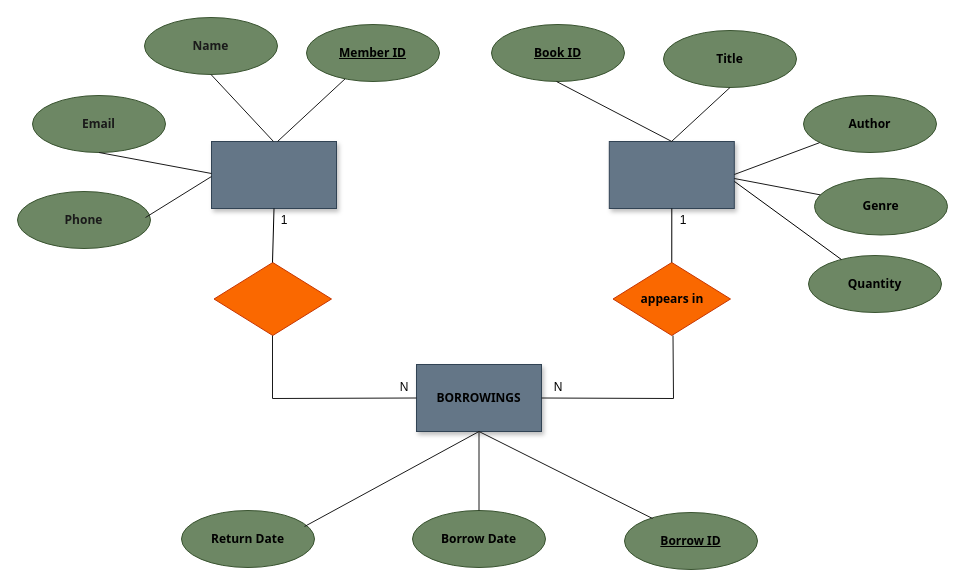
The diagram is 965 pixels wide and 587 high, and some of its shapes have lost their labels. The shapes that lost their labels are listed below. From the top down, each one's centre as x and y in pixels, then its label:
At [274,176]: "MEMBERS".
At [672,176]: "BOOKS".
At [272,299]: "borrows".
